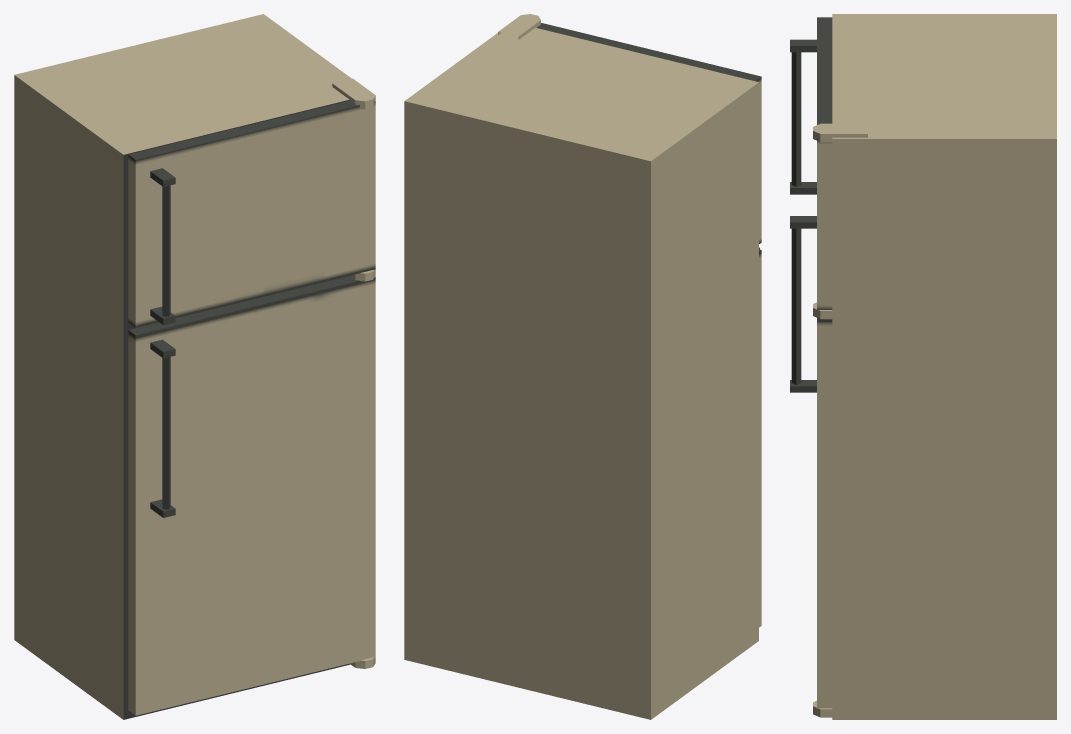
Rendered from geladeira_a.glb.
3 views of the same model, side by side, from view 1: azimuth 30°, elevation 25°; view 2: azimuth 150°, elevation 25°; view 3: azimuth 270°, elevation 25° (orthographic). The views are drawn at different scales.
Parts seen in each view (by area): view 1: geladeira_a; view 2: geladeira_a; view 3: geladeira_a.
Boxes of the visible parts, x1,y1,x2,y2 form: geladeira_a: (14, 14, 375, 719); geladeira_a: (404, 14, 761, 719); geladeira_a: (790, 14, 1056, 719).
Bounding box in the file's own units: 0.8033 × 1.75 × 0.7241.
Materials: 1 (1 with a texture image).
